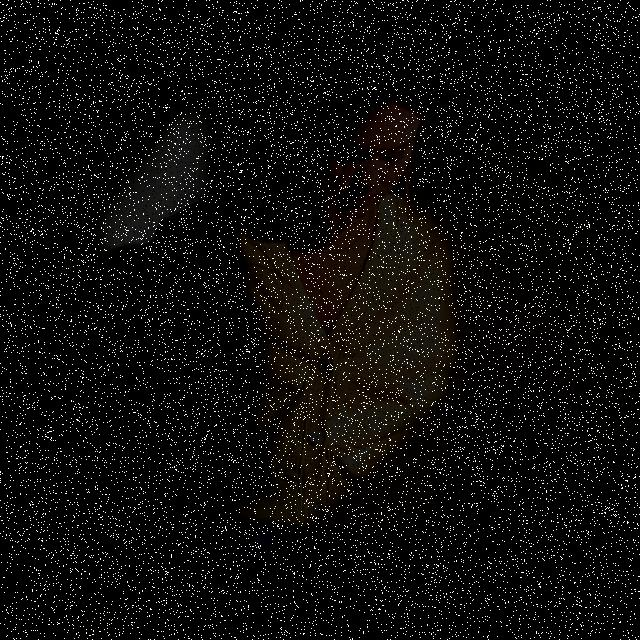dress: (62, 171, 580, 532)
